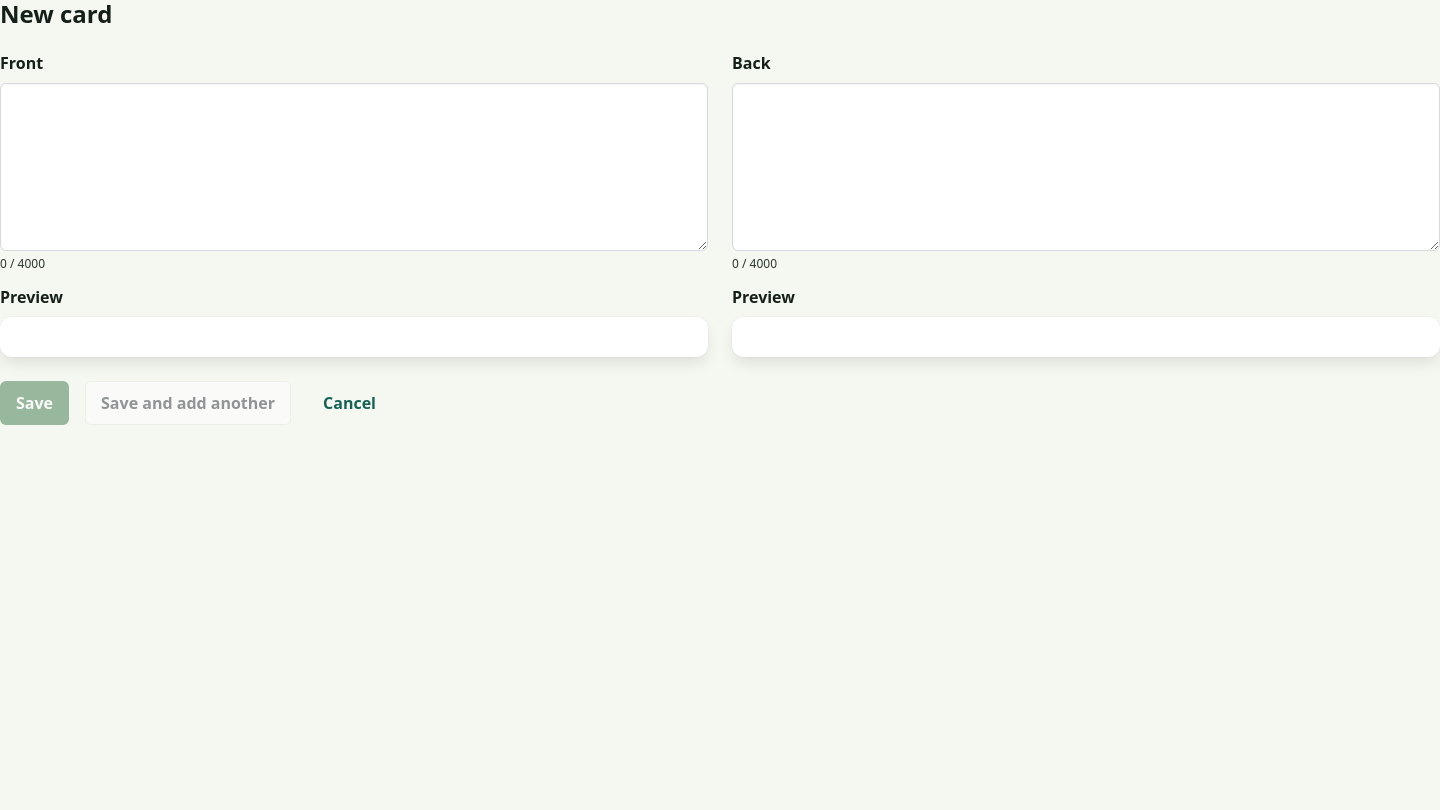
Scenario: CardEditView › leaving › asks before throwing away unsaved changes
Type "ser" into the text box with test id "card-front". click: (354,167)
box: [0, 83, 708, 251]
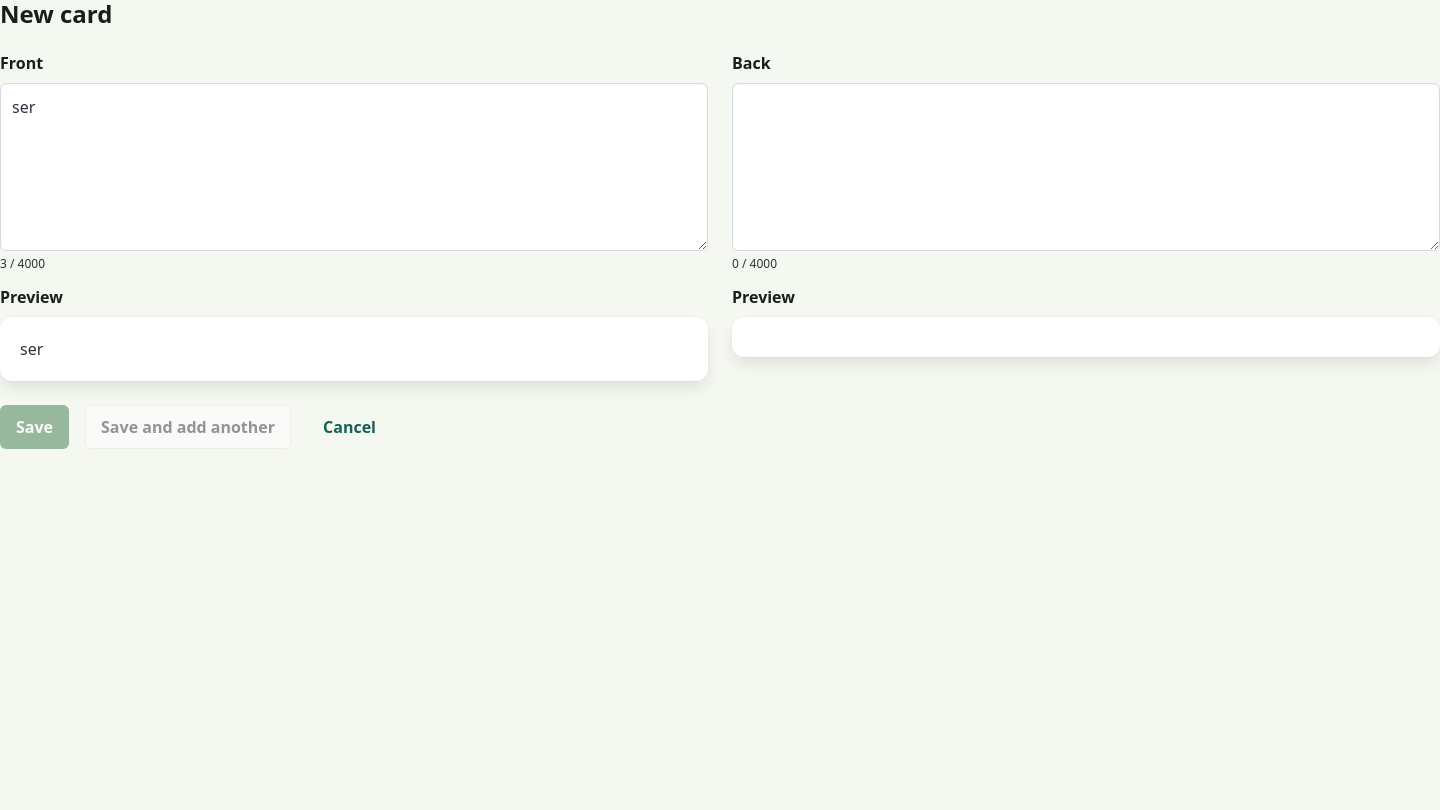
Type "to be" into the text box with test id "card-back". click: (1086,167)
box: [732, 83, 1439, 251]
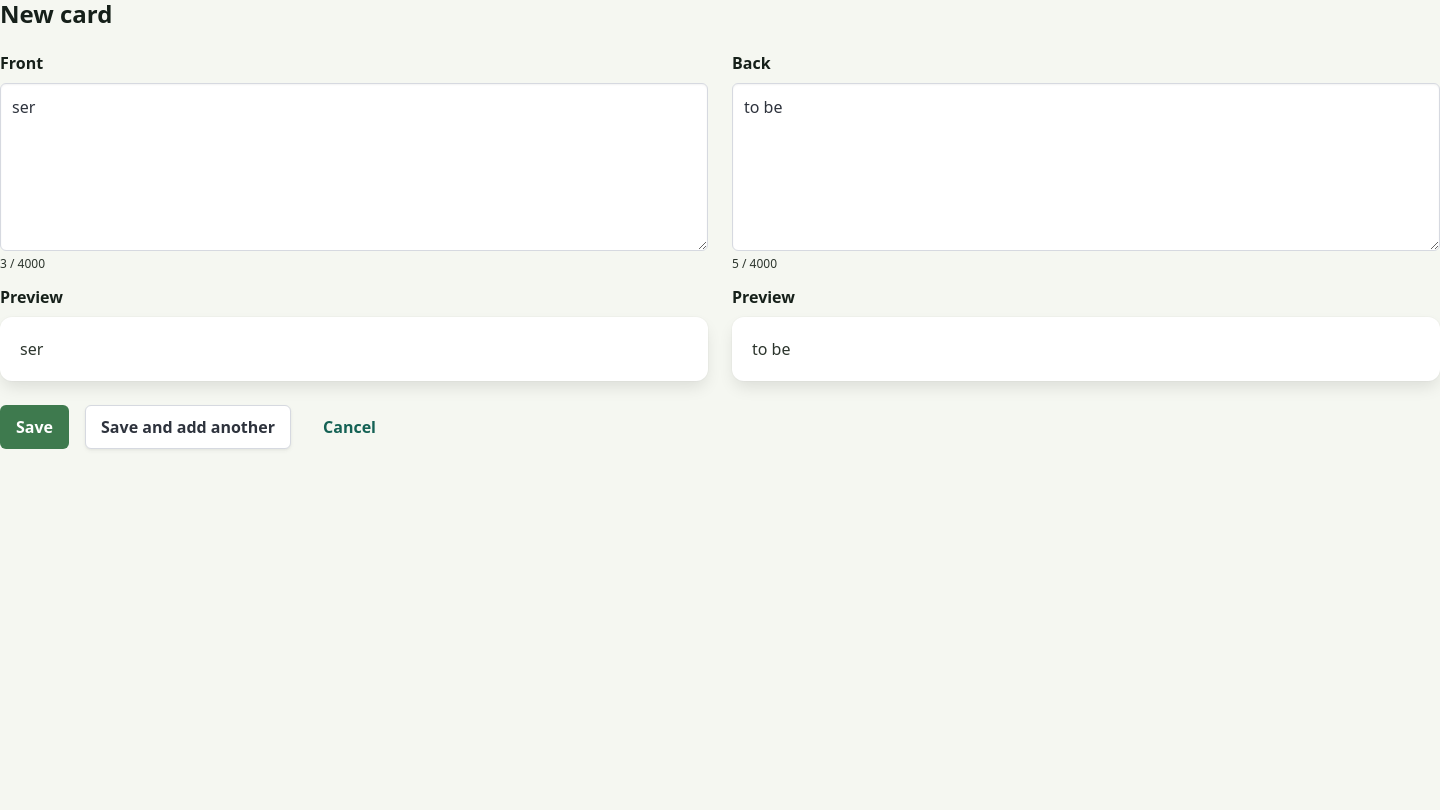
Click the button with test id "card-cancel". click: (350,427)
box: [307, 405, 392, 449]
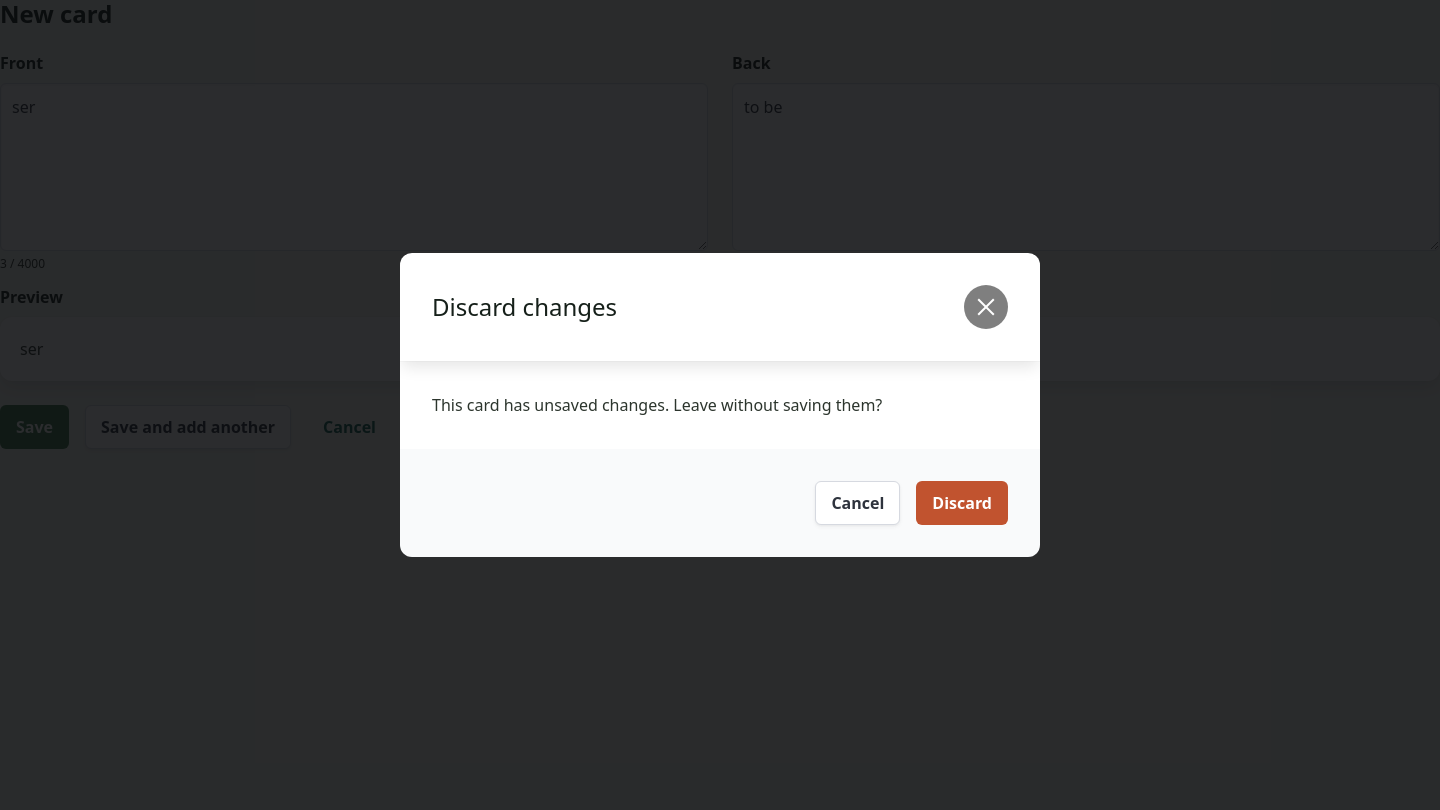
Expected: the text with test id "confirm-message" shows "unsaved", [432, 394, 882, 416]
